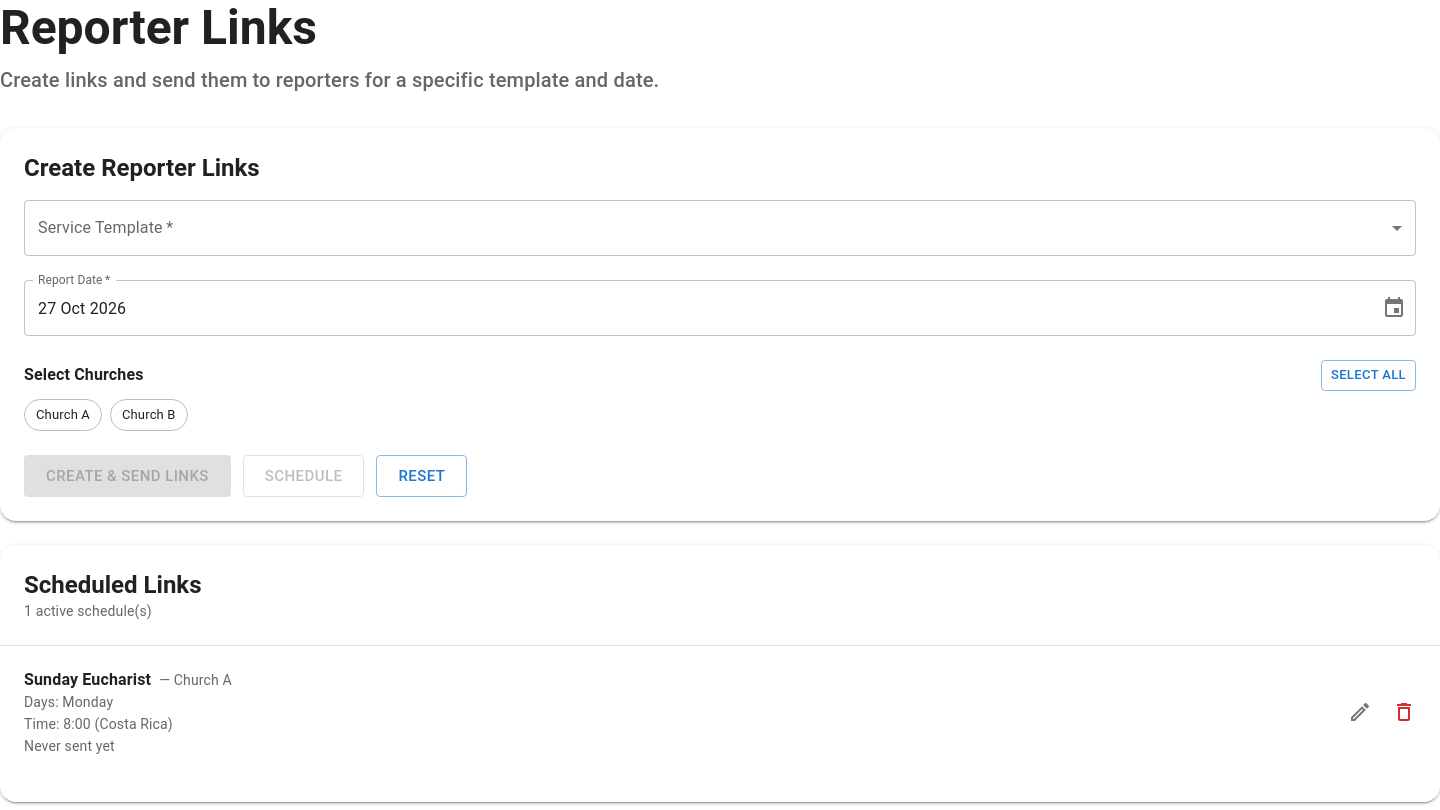
ReporterLinkManagementPage – schedule section › edits a schedule, including changing its churches
This screenshot has width=1440, height=810.
Step 1. Click the button named "edit schedule" → (1360, 712), box 1340,692 -> 1380,732
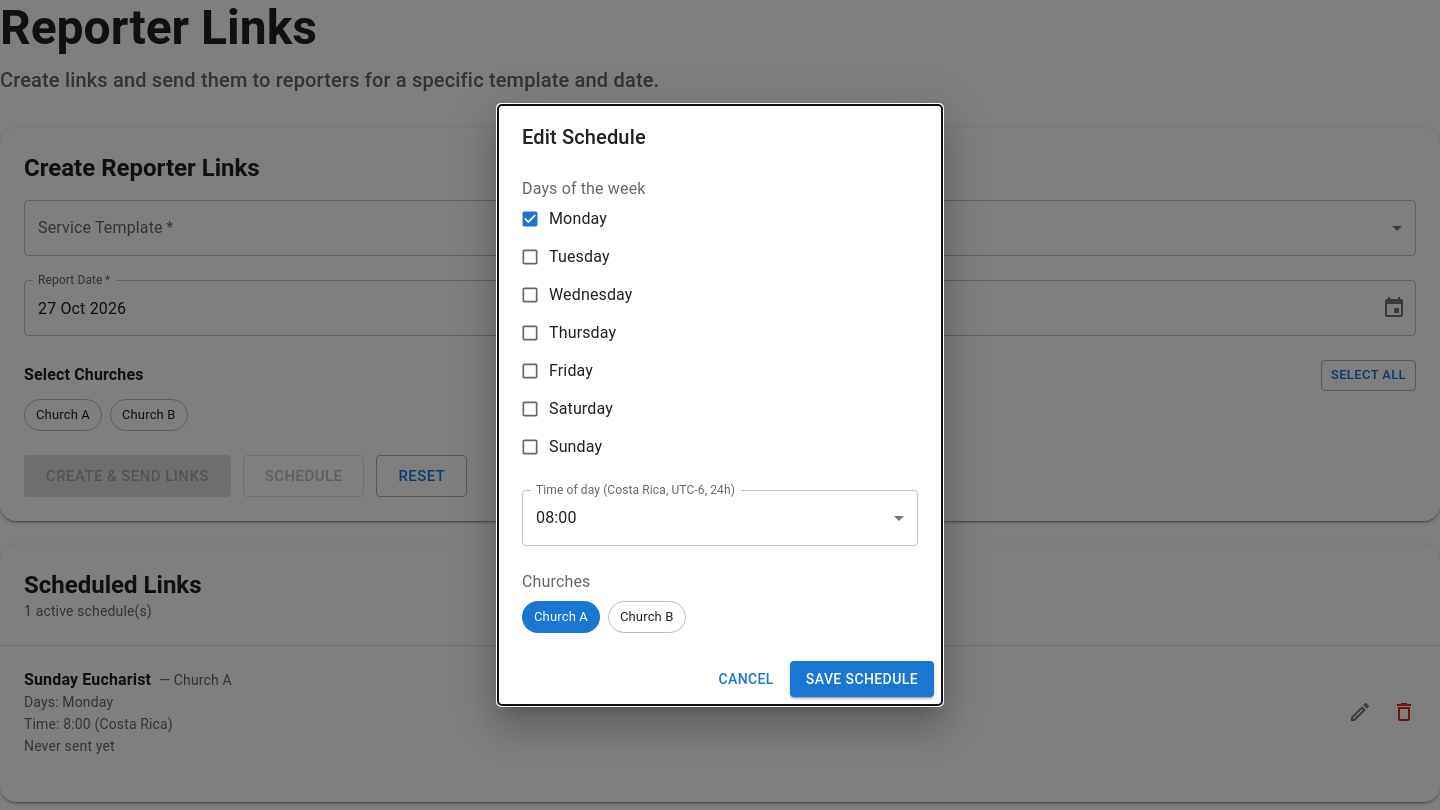
Check: the dialog is shown, box 498,105 -> 942,705
Church B chip should be visible inside the dialog and currently unselected
Step 2. Click the button "Church B" → (647, 617), box 608,601 -> 686,633
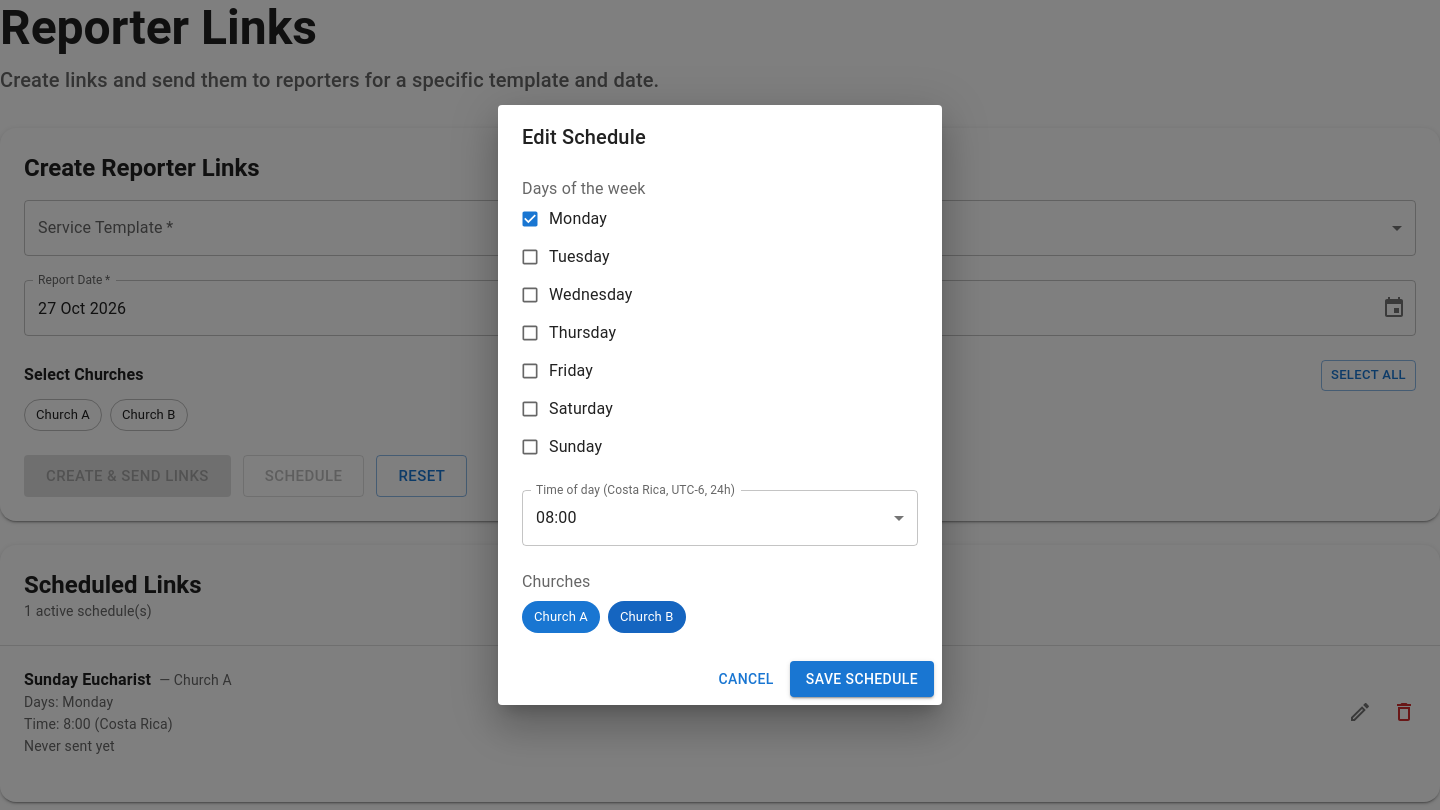
Also add Wednesday
Step 3. Click the checkbox labelled "Wednesday" → (576, 295), box 520,285 -> 633,305
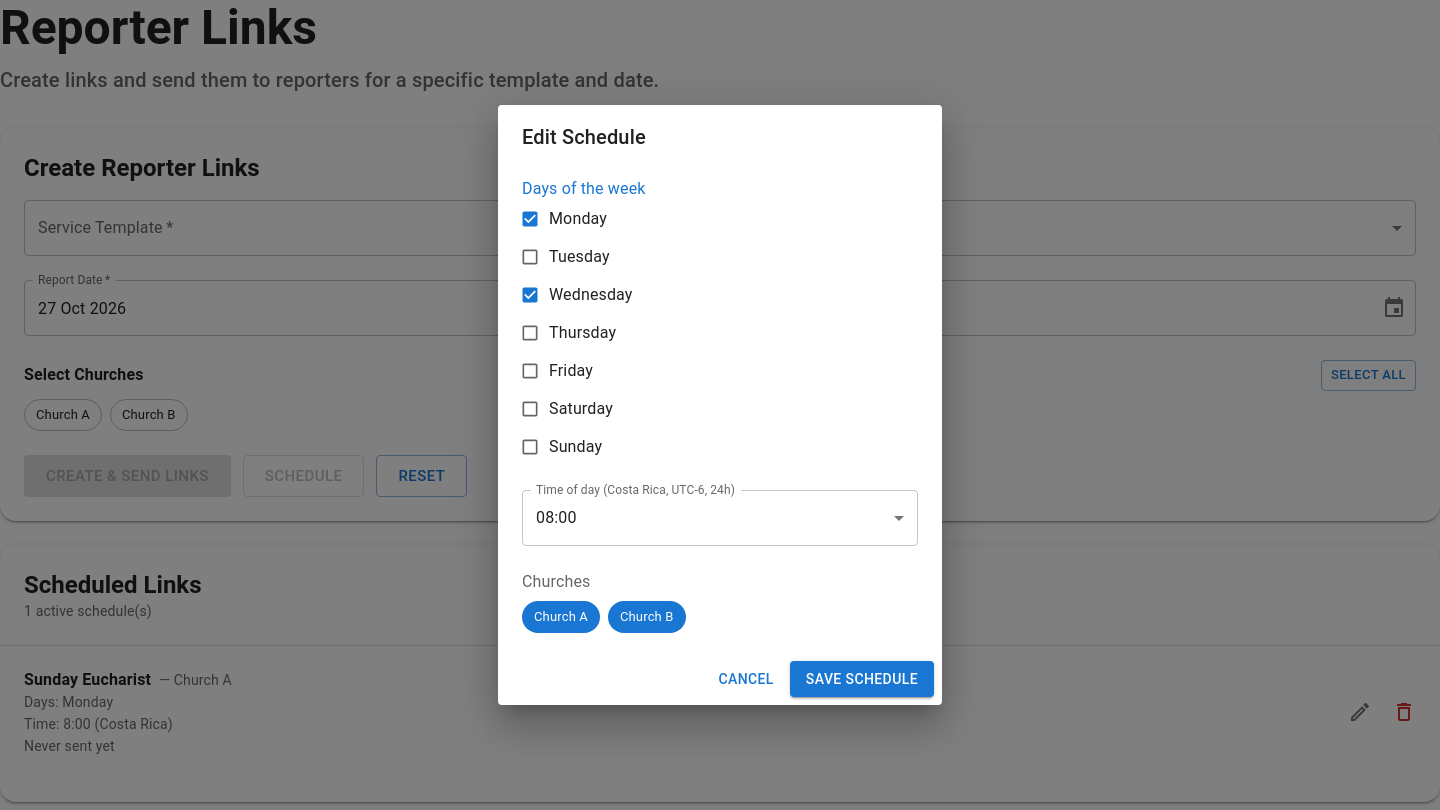
Step 4. Click the button "Save Schedule" → (862, 679), box 790,661 -> 934,697
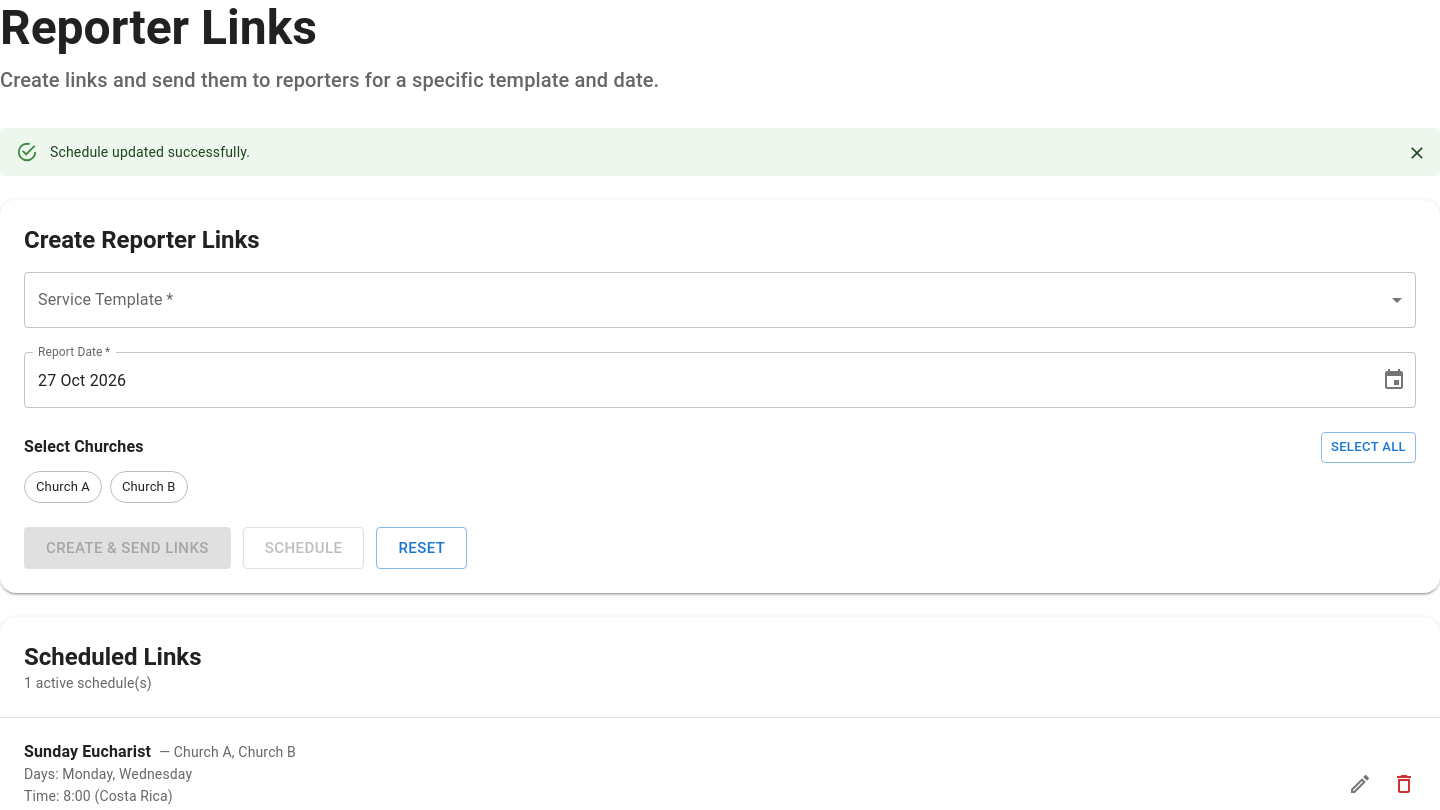
Check: the text "Schedule updated successfully." is shown, box 50,144 -> 250,160
